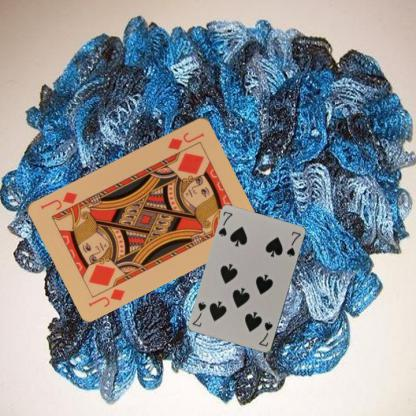7s: (256, 319, 274, 348), (216, 209, 234, 238)
Jd: (165, 129, 206, 151), (86, 286, 127, 308)
